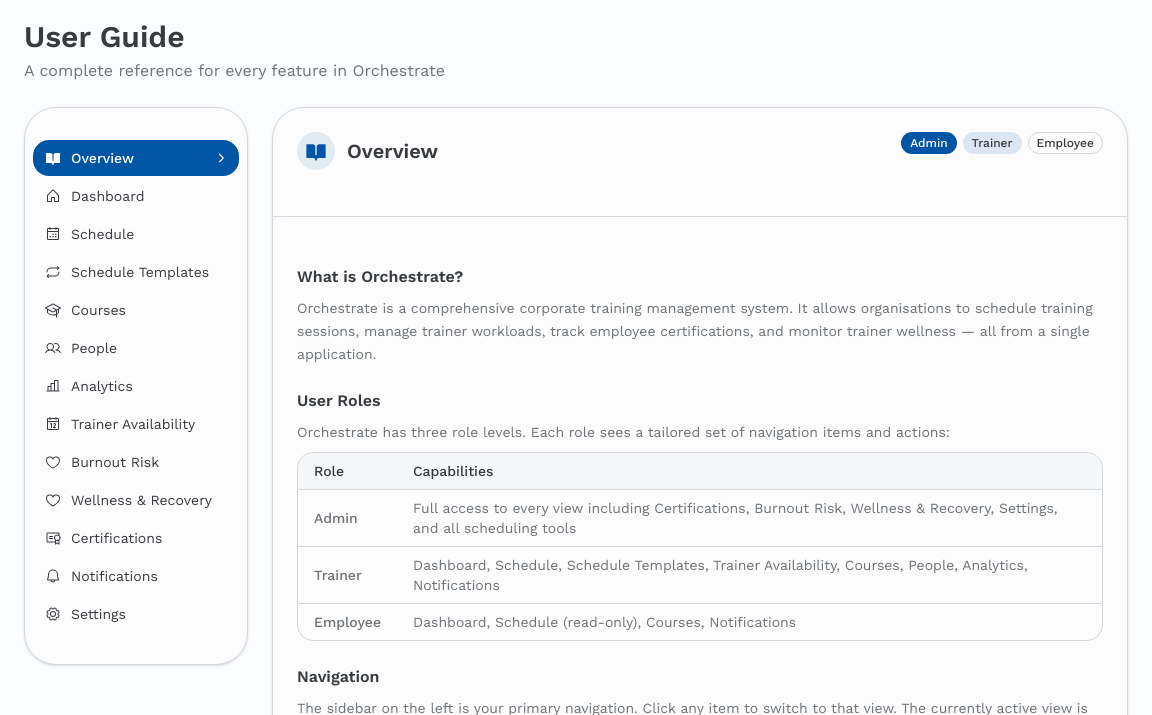
Test: UserGuide › renders Schedule section content including list items from GuideList
The width and height of the screenshot is (1152, 715).
Click the button "Schedule" at (136, 234), box [33,216,239,252]
(page scrolled)
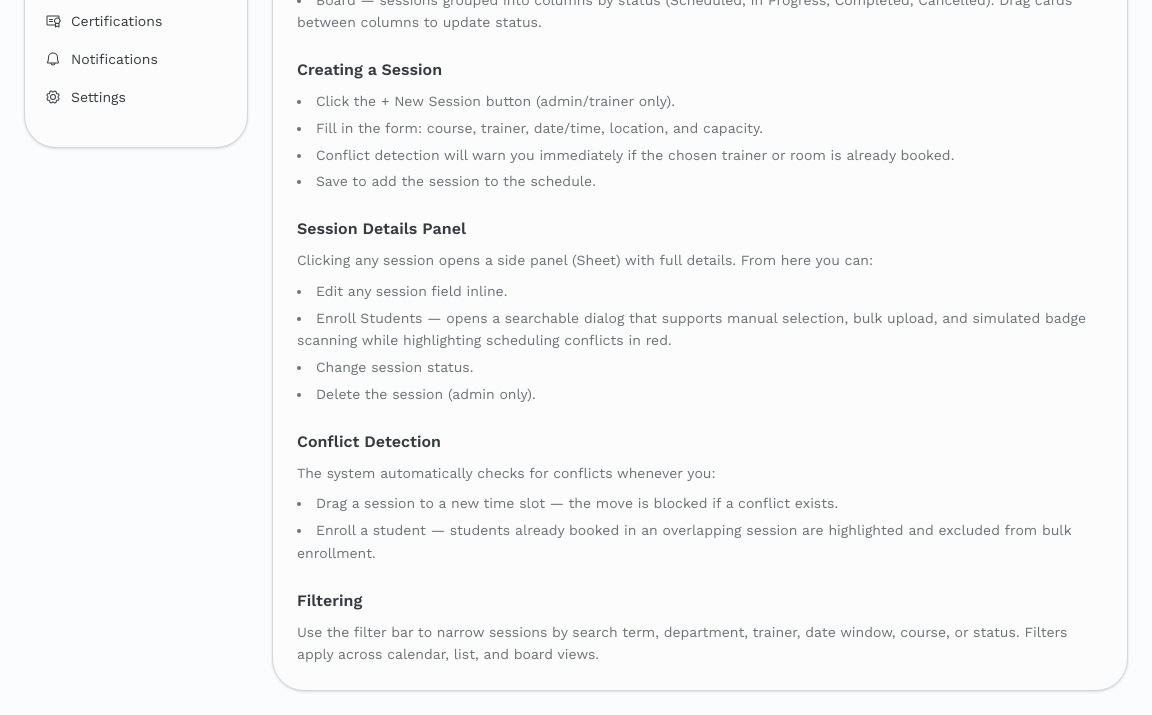
Result: the heading "Creating a Session" is shown at [297,60,442,79]
Result: the heading "Session Details Panel" is shown at [297,219,466,238]
Result: the heading "Conflict Detection" is shown at [297,432,441,450]
